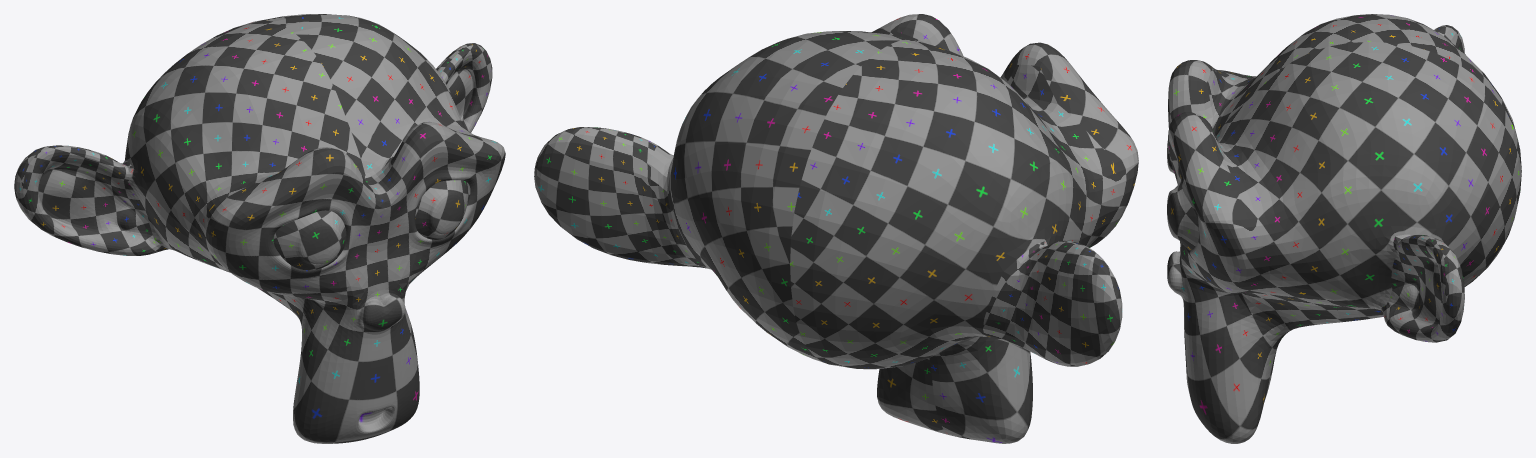
File: suzzan.obj
The picture shows the model from 3 angles, left to right: view 1: azimuth 30°, elevation 25°; view 2: azimuth 150°, elevation 25°; view 3: azimuth 270°, elevation 25°; orthographic projection. The views are drawn at different scales.
Parts seen in each view (by area): view 1: Suzanne; view 2: Suzanne; view 3: Suzanne.
Boxes of the visible parts, x1,y1,x2,y2 form: Suzanne: (14, 14, 505, 443); Suzanne: (534, 14, 1138, 443); Suzanne: (1167, 14, 1521, 443).
Bounding box in the file's own units: 2.66 × 1.91 × 1.6.
